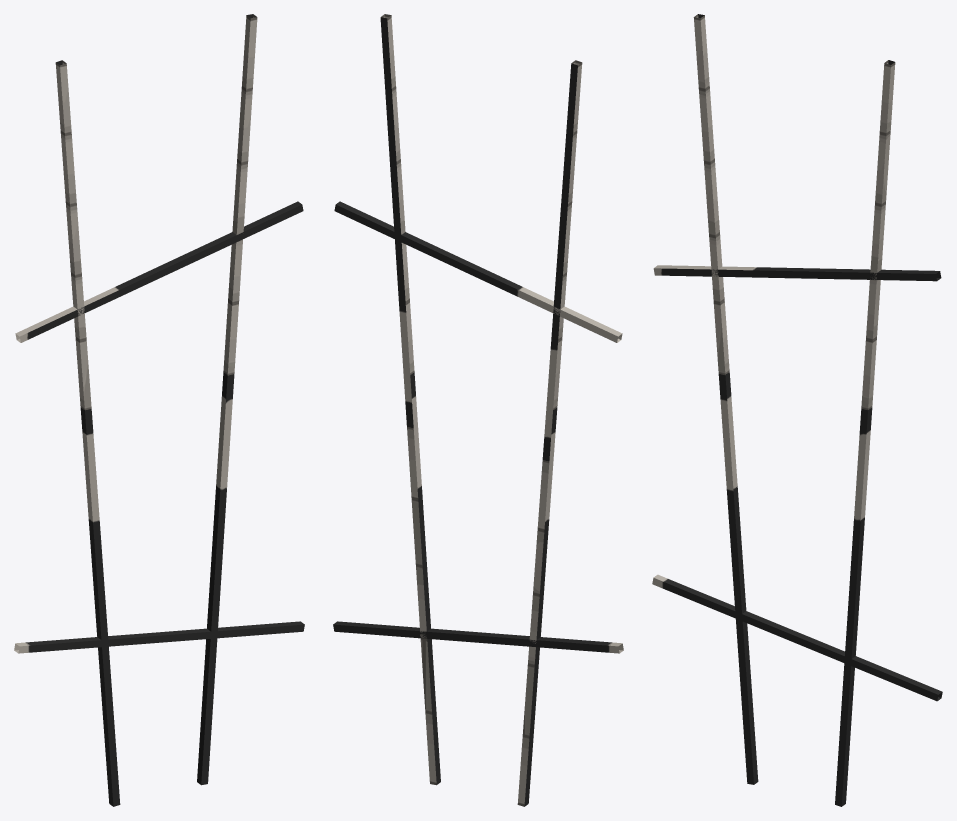
The model's file is SM_wallend_sbarre.fbx.
The picture shows the model from 3 angles, left to right: view 1: azimuth 30°, elevation 25°; view 2: azimuth 150°, elevation 25°; view 3: azimuth 330°, elevation 25°; orthographic projection.
Parts seen in each view (by area): view 1: polySurface1; view 2: polySurface1; view 3: polySurface1.
Part boxes in pixels (box(x1,y1,x2,y2)): polySurface1: box(14, 14, 304, 806); polySurface1: box(333, 14, 623, 806); polySurface1: box(652, 14, 942, 806).
Bounding box in the file's own units: 326 × 820 × 8.44.
